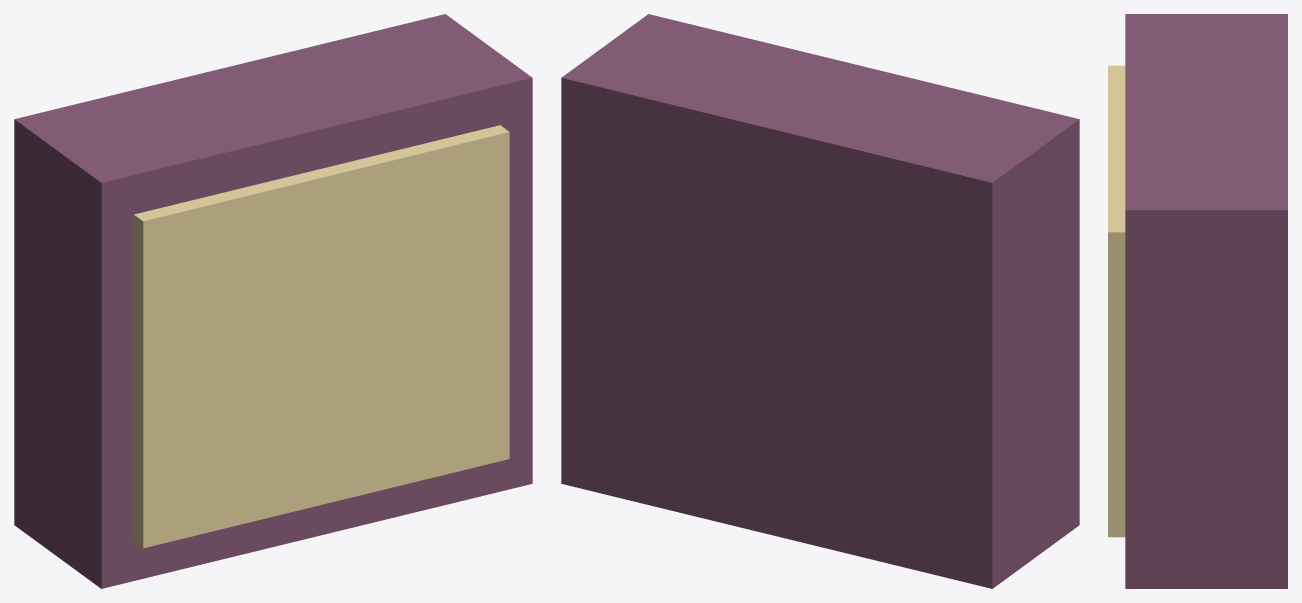
The model's file is acc_tool_book.glb.
3 views of the same model, side by side, from view 1: azimuth 30°, elevation 25°; view 2: azimuth 150°, elevation 25°; view 3: azimuth 270°, elevation 25° (orthographic). The views are drawn at different scales.
Visible parts, largest first — view 1: acc_tool_book; view 2: acc_tool_book; view 3: acc_tool_book.
Part boxes in pixels (x1=…): acc_tool_book: x1=14, y1=14, x2=532, y2=588; acc_tool_book: x1=561, y1=14, x2=1079, y2=588; acc_tool_book: x1=1108, y1=14, x2=1287, y2=588.
Size of the model in its own units: 0.4 by 0.36 by 0.155.
Materials: 1 (1 with a texture image).
